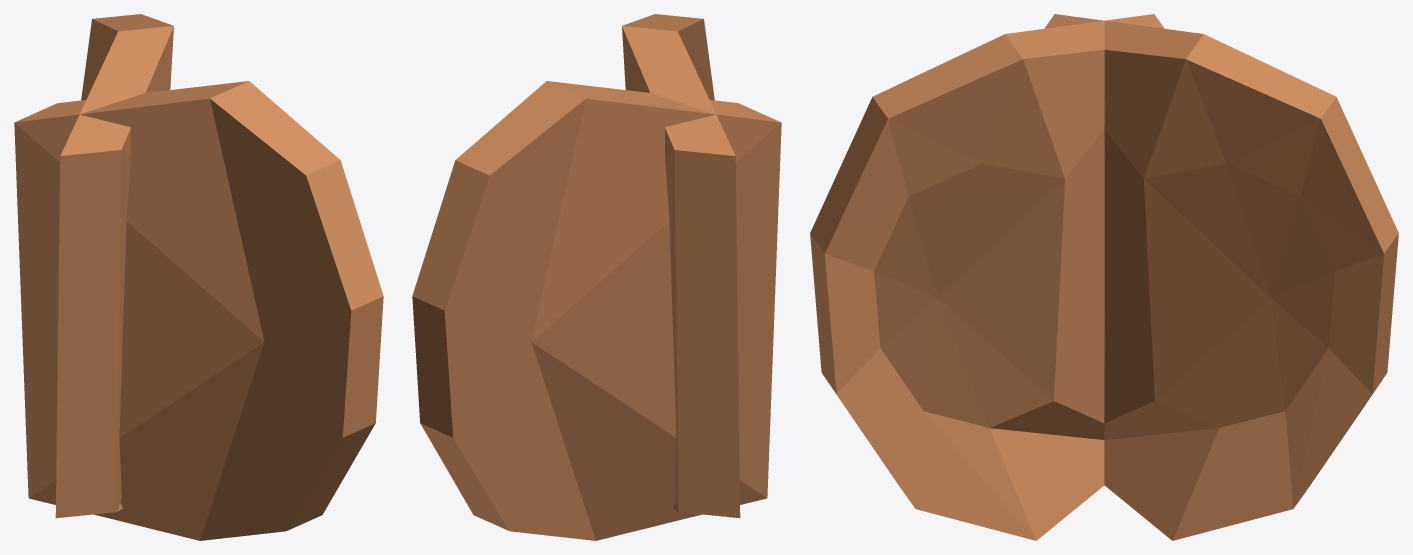
The model's file is human_round.glb.
3 renders of one model, left to right at view 1: azimuth 30°, elevation 25°; view 2: azimuth 150°, elevation 25°; view 3: azimuth 270°, elevation 25°, orthographic. The views are drawn at different scales.
Visible parts, largest first — view 1: Ear_R.001, Ear_L.001; view 2: Ear_L.001, Ear_R.001; view 3: Ear_L.001, Ear_R.001.
Boxes of the visible parts, x1,y1,x2,y2 form: Ear_R.001: (14,81,383,540); Ear_L.001: (55,14,173,518); Ear_L.001: (412,81,781,540); Ear_R.001: (622,14,740,518); Ear_L.001: (1044,14,1398,540); Ear_R.001: (810,14,1164,540).
Size of the model in its own units: 0.0319 by 0.0625 by 0.0691.
Materials: 1 (1 with a texture image).
